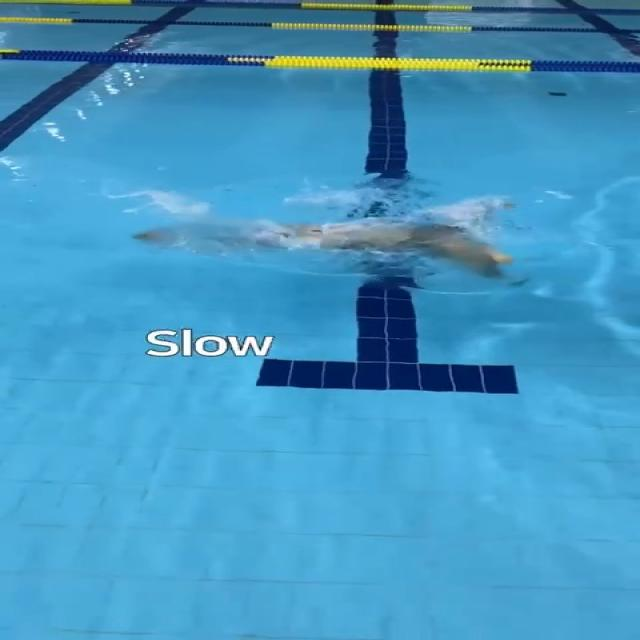Swimming: (131, 194, 524, 285)
